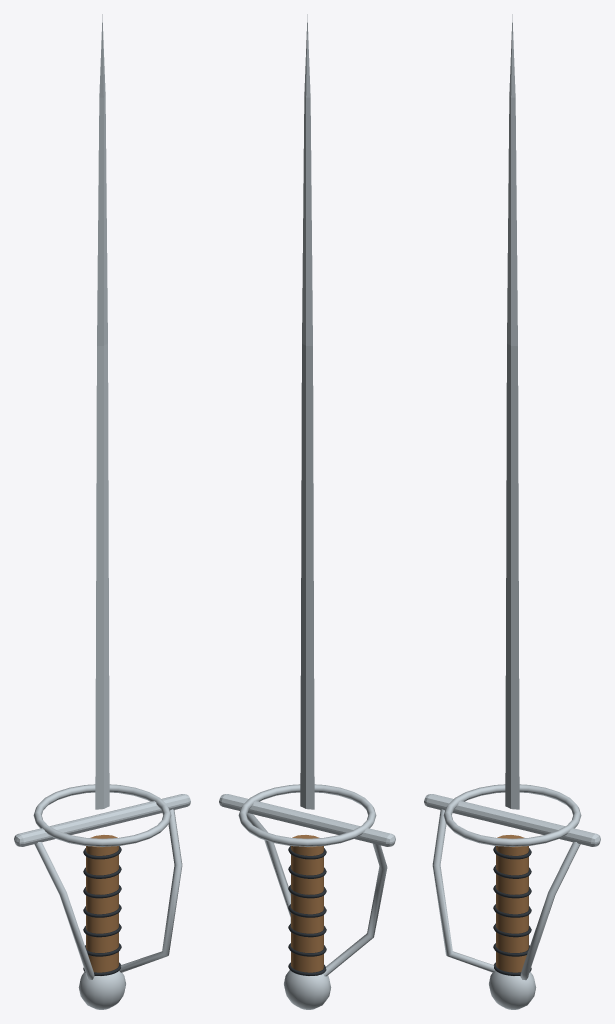
The model's file is sword_rapier.glb.
3 views of the same model, side by side, from view 1: azimuth 30°, elevation 25°; view 2: azimuth 150°, elevation 25°; view 3: azimuth 330°, elevation 25° (orthographic).
Parts seen in each view (by area): view 1: Slender rapier blade, Rapier grip, Rapier ring guard, Rapier quillons, Swept hand guard.001, Rapier pommel, Swept hand guard; view 2: Slender rapier blade, Rapier grip, Rapier ring guard, Rapier quillons, Rapier pommel, Swept hand guard, Swept hand guard.001; view 3: Slender rapier blade, Rapier grip, Rapier ring guard, Rapier quillons, Swept hand guard, Rapier pommel, Swept hand guard.001.
Boxes of the visible parts, x1=… form: Slender rapier blade: x1=95, y1=14, x2=109, y2=809; Rapier grip: x1=86, y1=835, x2=118, y2=972; Rapier ring guard: x1=33, y1=784, x2=171, y2=846; Rapier quillons: x1=14, y1=794, x2=190, y2=846; Swept hand guard.001: x1=119, y1=809, x2=182, y2=972; Rapier pommel: x1=78, y1=971, x2=125, y2=1009; Swept hand guard: x1=34, y1=842, x2=94, y2=980; Slender rapier blade: x1=300, y1=14, x2=314, y2=809; Rapier grip: x1=291, y1=835, x2=323, y2=975; Rapier ring guard: x1=238, y1=784, x2=376, y2=846; Rapier quillons: x1=219, y1=794, x2=395, y2=846; Rapier pommel: x1=284, y1=970, x2=331, y2=1009; Swept hand guard: x1=323, y1=843, x2=387, y2=976; Swept hand guard.001: x1=247, y1=813, x2=290, y2=922; Slender rapier blade: x1=505, y1=14, x2=519, y2=809; Rapier grip: x1=496, y1=835, x2=528, y2=972; Rapier ring guard: x1=443, y1=784, x2=581, y2=846; Rapier quillons: x1=424, y1=794, x2=600, y2=846; Swept hand guard: x1=432, y1=809, x2=495, y2=972; Rapier pommel: x1=489, y1=971, x2=536, y2=1009; Swept hand guard.001: x1=520, y1=842, x2=580, y2=980.
Bounding box in the file's own units: 0.22 × 1.2 × 0.151.
